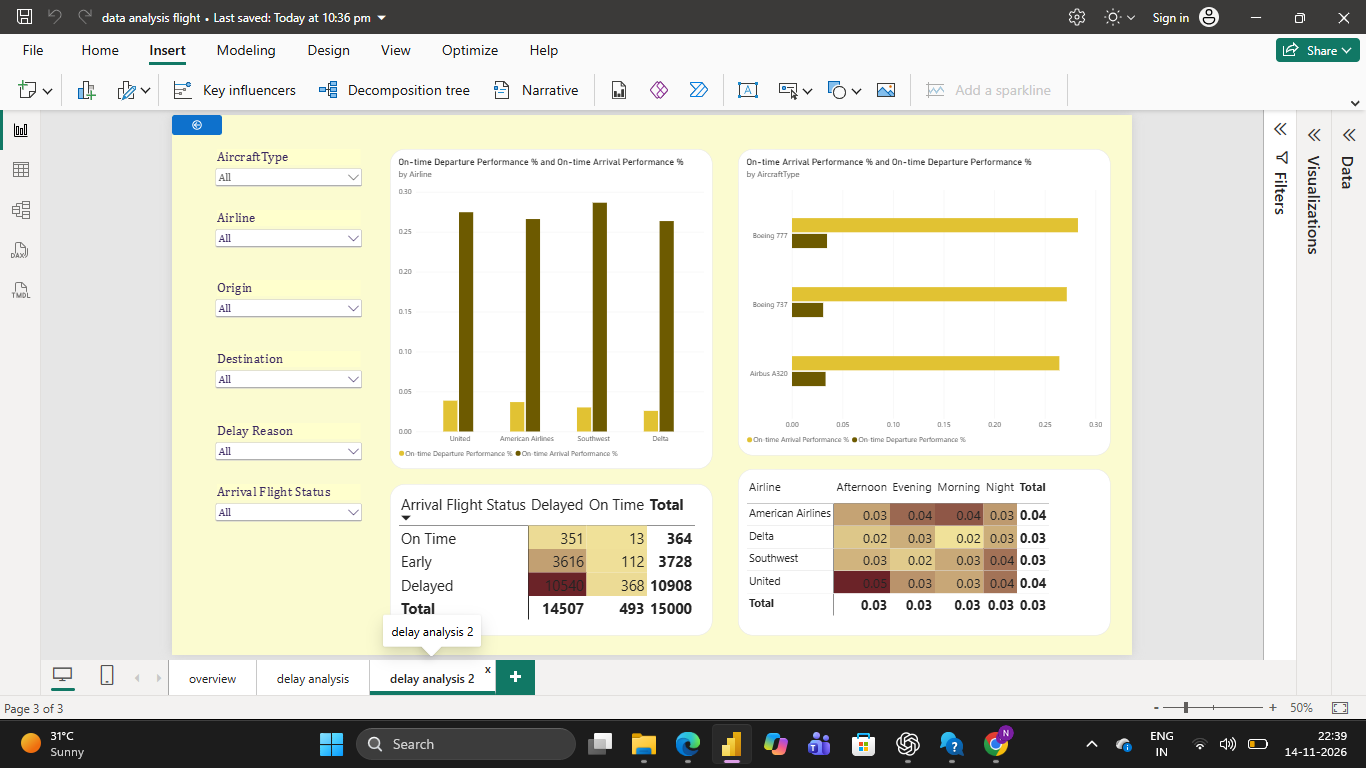

The dashboard page shown, as its layout file describes it:
{"tool":"powerbi","page":{"name":" delay analysis 2","canvas":[1920,1080],"ordinal":2},"visuals":[{"type":"clusteredColumnChart","fields":{"Category":["flight_delays1.Airline"],"Y":["flight_delays1.On-time Departure Performance %","flight_delays1.On-time Arrival Performance %"]},"box":[435,67.5,645,640],"z":0},{"type":"pivotTable","fields":{"Columns":["flight_delays1.Departure Time Category"],"Rows":["flight_delays1.Airline"],"Values":["flight_delays1.On-time Departure Performance %"]},"box":[1132.5,707.5,745,332.5],"z":1000},{"type":"actionButton","box":[0,0,100,40],"z":2000},{"type":"pivotTable","fields":{"Columns":["flight_delays1.Departure Flight Status"],"Rows":["flight_delays1.Flight Status"],"Values":["flight_delays1.Total Flights"]},"box":[435,737.5,645,302.5],"z":3000},{"type":"clusteredBarChart","fields":{"Category":["flight_delays1.AircraftType"],"Y":["flight_delays1.On-time Arrival Performance %","flight_delays1.On-time Departure Performance %"]},"box":[1132.5,67.5,745,612.5],"z":4000},{"type":"slicer","fields":{"Values":["flight_delays1.AircraftType"]},"box":[82.5,67.5,302.5,82.5],"z":5000},{"type":"slicer","fields":{"Values":["flight_delays1.Airline"]},"box":[82.5,190,302.5,82.5],"z":6000},{"type":"slicer","fields":{"Values":["flight_delays1.Origin"]},"box":[82.5,330,302.5,87.5],"z":7000},{"type":"slicer","fields":{"Values":["flight_delays1.Destination"]},"box":[82.5,472.5,302.5,92.5],"z":8000},{"type":"slicer","fields":{"Values":["flight_delays1.Delay Reason Corrected"]},"box":[82.5,615,302.5,92.5],"z":9000},{"type":"slicer","fields":{"Values":["flight_delays1.Arrival Flight Status"]},"box":[82.5,737.5,302.5,92.5],"z":10000}]}

Visuals, with their boxes on the page's 1920x1080 design canvas (x1, y1, x2, y2). These are canvas units, not pixel positions in the 1366x768 screenshot, which may show the page scaled, cropped or inside an application window:
clusteredColumnChart - flight_delays1.Airline x flight_delays1.On-time Departure Performance %: region(435, 68, 1080, 708)
pivotTable - flight_delays1.Departure Time Category x flight_delays1.Airline: region(1132, 708, 1878, 1040)
actionButton: region(0, 0, 100, 40)
pivotTable - flight_delays1.Departure Flight Status x flight_delays1.Flight Status: region(435, 738, 1080, 1040)
clusteredBarChart - flight_delays1.AircraftType x flight_delays1.On-time Arrival Performance %: region(1132, 68, 1878, 680)
slicer - flight_delays1.AircraftType: region(82, 68, 385, 150)
slicer - flight_delays1.Airline: region(82, 190, 385, 272)
slicer - flight_delays1.Origin: region(82, 330, 385, 418)
slicer - flight_delays1.Destination: region(82, 472, 385, 565)
slicer - flight_delays1.Delay Reason Corrected: region(82, 615, 385, 708)
slicer - flight_delays1.Arrival Flight Status: region(82, 738, 385, 830)
